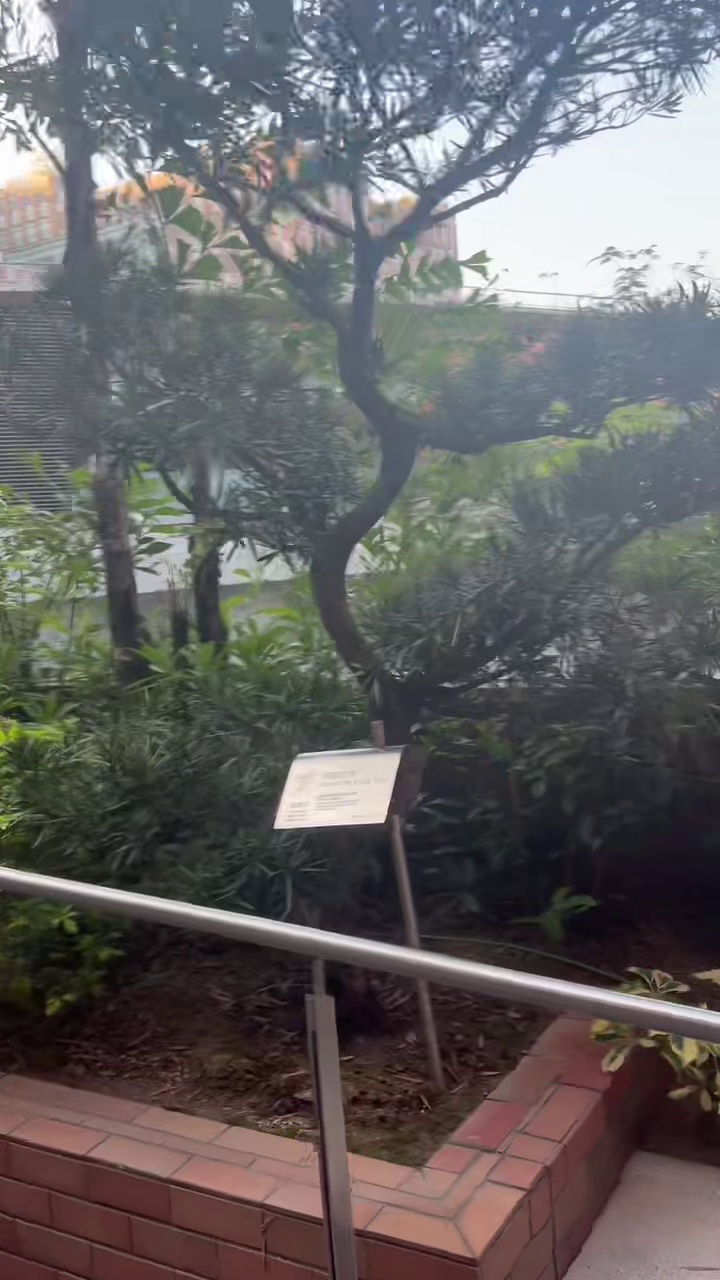Podocarpus macrophyllus: (79, 0, 719, 677)
